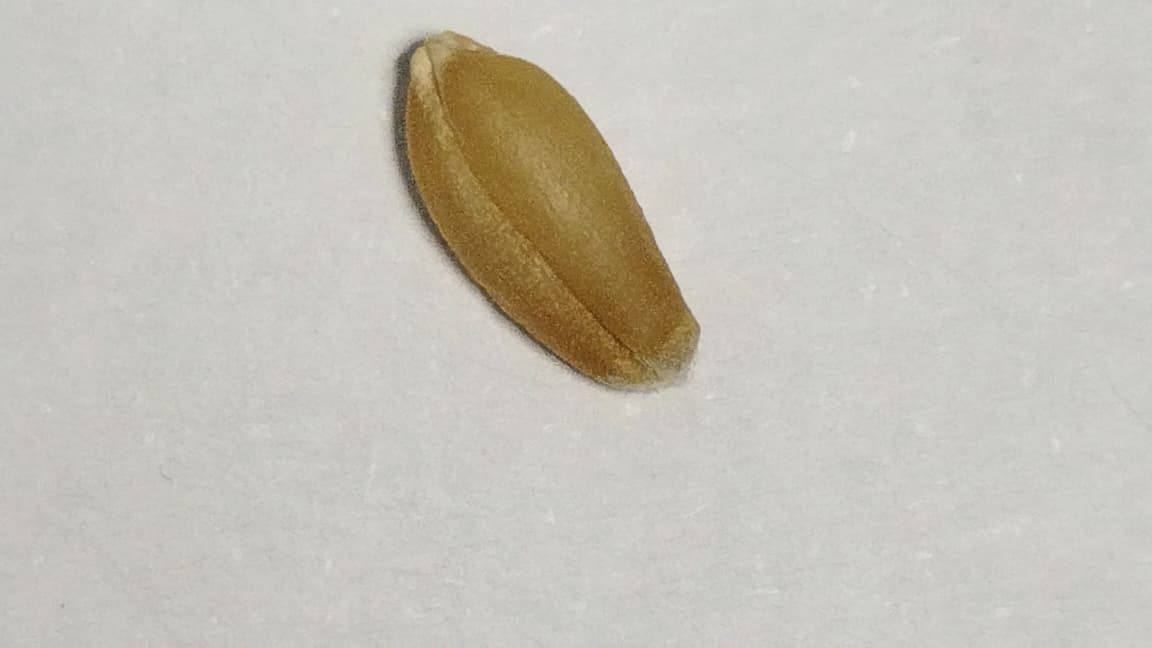healthy: (397, 31, 699, 392)
